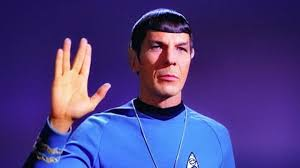LiveLong: (49, 37, 113, 122)
